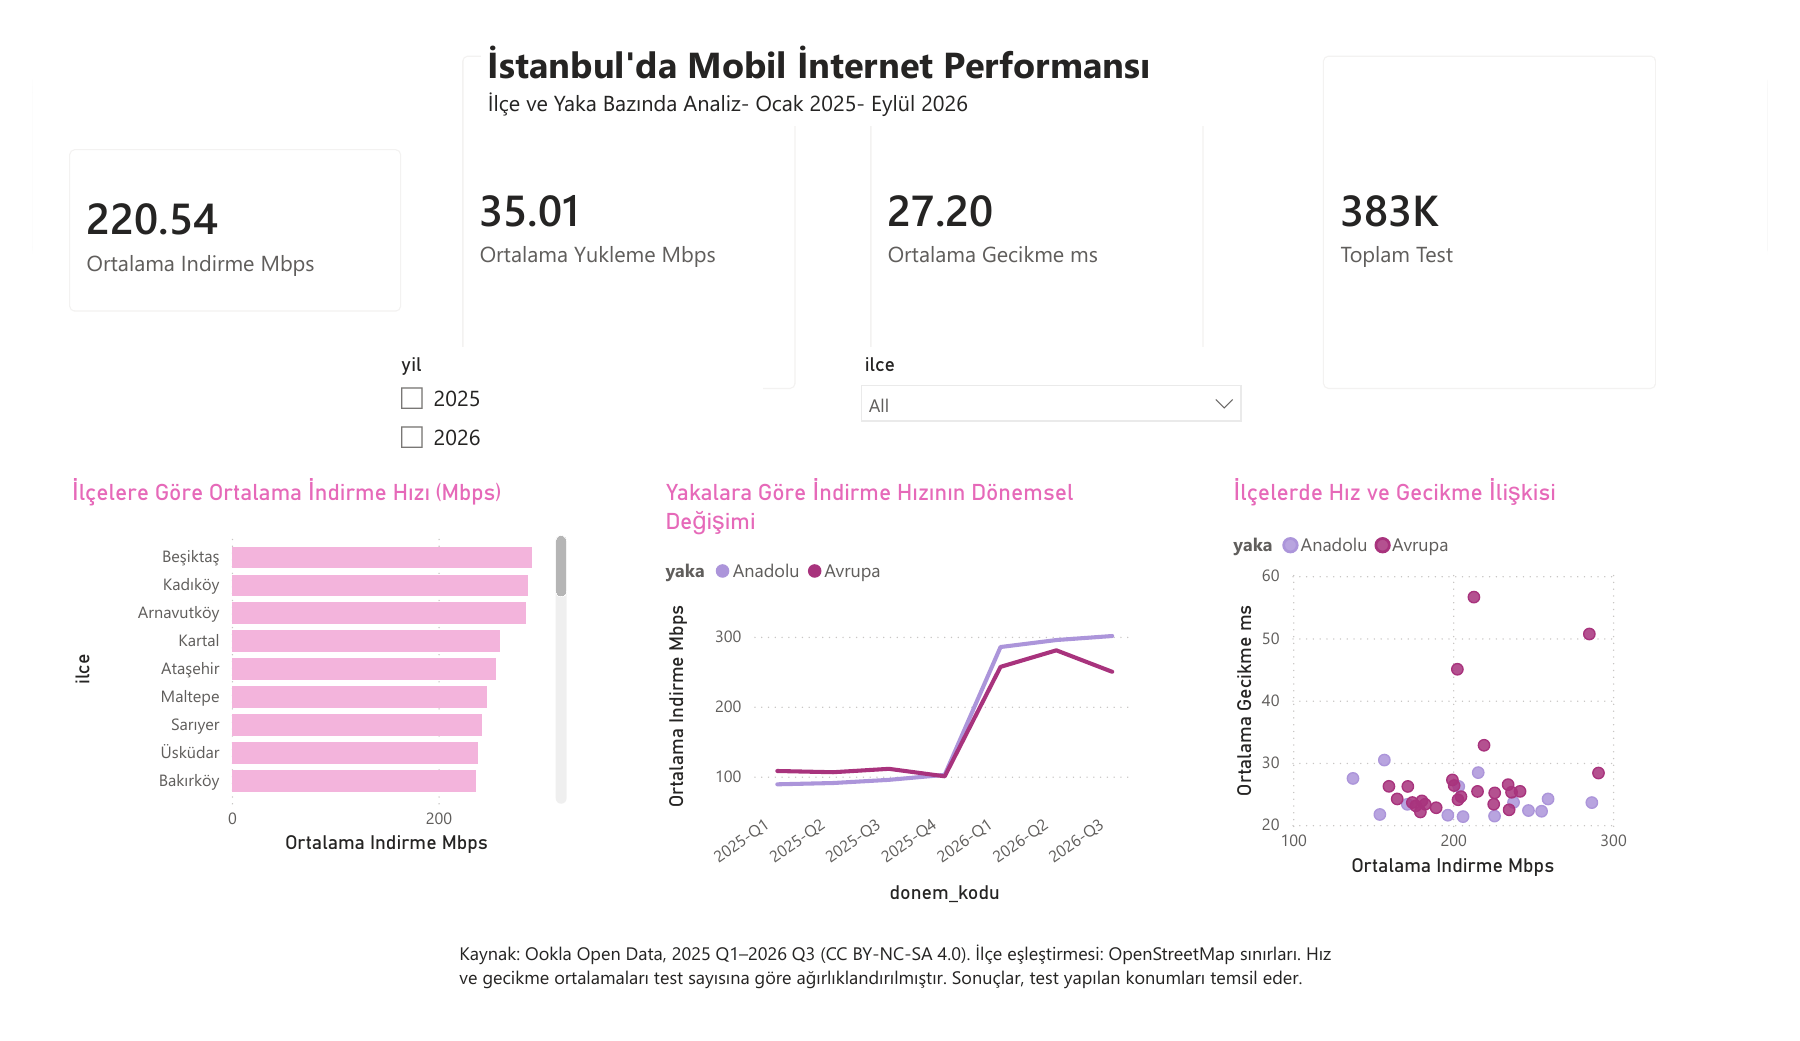

Layout of this report page (visuals, bound fields, positions):
{"tool":"powerbi","page":{"name":"Page 1","canvas":[1280,720],"ordinal":0},"visuals":[{"type":"cardVisual","fields":{"Data":["MobilPerformans.Ortalama Indirme Mbps"]},"box":[9.6,69.1,279.8,154.4],"z":0},{"type":"cardVisual","fields":{"Data":["MobilPerformans.Ortalama Yukleme Mbps"]},"box":[299.8,0,280,280],"z":1},{"type":"cardVisual","fields":{"Data":["MobilPerformans.Ortalama Gecikme ms"]},"box":[601.1,0,280,280],"z":2},{"type":"cardVisual","fields":{"Data":["MobilPerformans.Toplam Test"]},"box":[935.5,0,280,280],"z":3},{"type":"clusteredBarChart","title":"İlçelere Göre Ortalama İndirme Hızı (Mbps)","fields":{"Category":["ılceler.ilce"],"Y":["MobilPerformans.Ortalama Indirme Mbps"]},"box":[24.1,328,374.7,283],"z":4},{"type":"lineChart","title":"Yakalara Göre İndirme Hızının Dönemsel Değişimi","fields":{"Category":["donemler.donem_kodu"],"Y":["MobilPerformans.Ortalama Indirme Mbps"],"Series":["ılceler.yaka"]},"box":[461.5,328,357,320],"z":5},{"type":"slicer","fields":{"Values":["donemler.yil"]},"box":[258.9,231.6,279.8,96.5],"z":6},{"type":"slicer","fields":{"Values":["ılceler.ilce"]},"box":[601.4,231.6,300.7,85.2],"z":7},{"type":"textbox","box":[331.3,0,540.3,69.1],"z":8},{"type":"textbox","box":[310.4,665.7,659.3,54.7],"z":9},{"type":"scatterChart","title":"İlçelerde Hız ve Gecikme İlişkisi","fields":{"X":["MobilPerformans.Ortalama Indirme Mbps"],"Y":["MobilPerformans.Ortalama Gecikme ms"],"Series":["ılceler.yaka"],"Category":["ılceler.ilce"]},"box":[881.2,328,300,300],"z":10}]}

Visuals, with their boxes in screenshot pixels (x1, y1, x2, y2), scaled from the page's 1280x720 canvas onto the 1800x1041 screenshot:
cardVisual - MobilPerformans.Ortalama Indirme Mbps: x1=14 y1=100 x2=407 y2=323
cardVisual - MobilPerformans.Ortalama Yukleme Mbps: x1=422 y1=0 x2=815 y2=405
cardVisual - MobilPerformans.Ortalama Gecikme ms: x1=845 y1=0 x2=1239 y2=405
cardVisual - MobilPerformans.Toplam Test: x1=1316 y1=0 x2=1709 y2=405
"İlçelere Göre Ortalama İndirme Hızı (Mbps)" clusteredBarChart: x1=34 y1=474 x2=561 y2=883
"Yakalara Göre İndirme Hızının Dönemsel Değişimi" lineChart: x1=649 y1=474 x2=1151 y2=937
slicer - donemler.yil: x1=364 y1=335 x2=758 y2=474
slicer - ılceler.ilce: x1=846 y1=335 x2=1269 y2=458
textbox: x1=466 y1=0 x2=1226 y2=100
textbox: x1=436 y1=962 x2=1364 y2=1040
"İlçelerde Hız ve Gecikme İlişkisi" scatterChart: x1=1239 y1=474 x2=1661 y2=908
